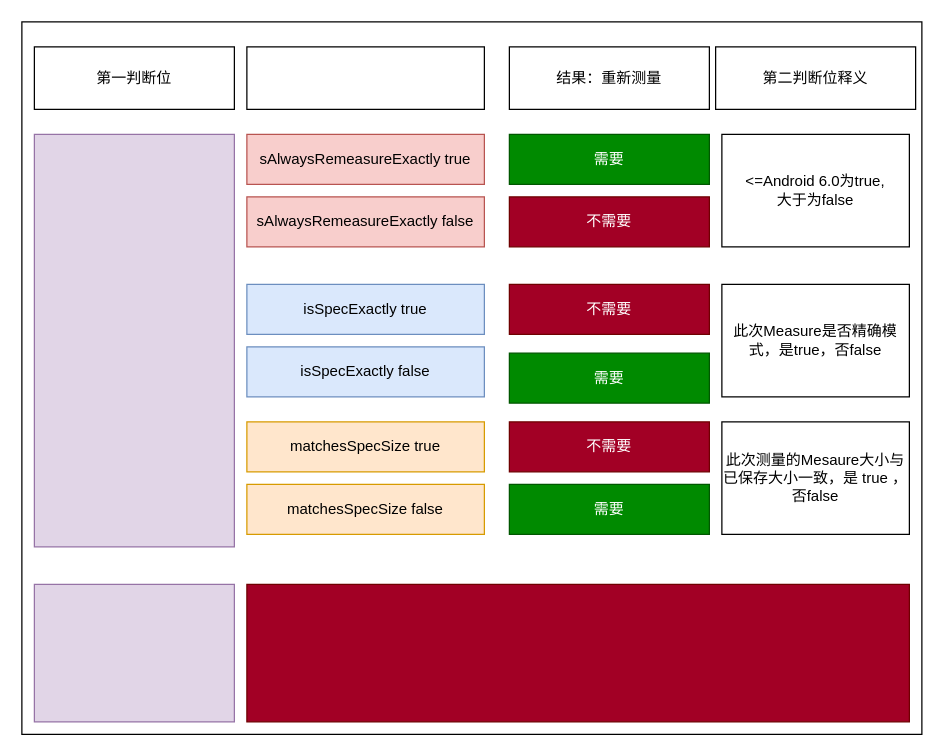
Some shapes in this 944 by 756 pixel diagram are drawn without their labels. Here are the shapes that lost their labels. From the top down, the centre of each, then its label:
At point (365, 77): "第二判断位".
At point (133, 340): "specChanged true".
At point (133, 652): "specChanged false".
At point (577, 652): "不需要测量，MeasureSpec与上次一致".
